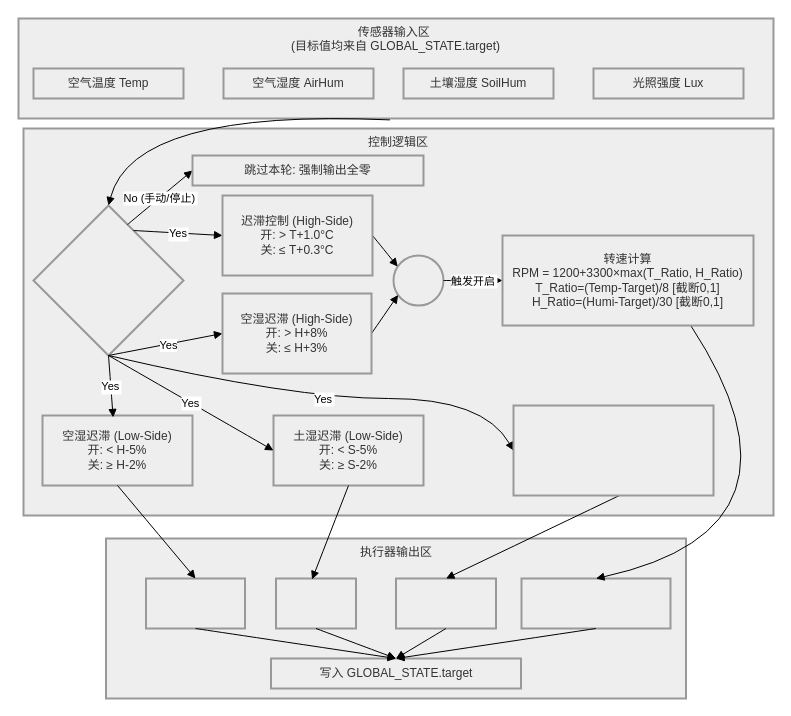
Some shapes in this 791 by 716 pixel diagram are drawn without their labels. Each missing label, with the centre of its shape:
LED补光灯 PWM 8~100%: point (445, 603)
OR gate: point (418, 280)
加湿器 开关: point (195, 603)
控制模式 == Auto?: point (108, 280)
比例+步进控制 deficit = 目标-当前 PWM = deficit/目标×100% 每次±1步, ≥8%: point (613, 450)
水泵 开关: point (315, 603)
通风风扇 1200~4500 RPM: point (595, 603)
